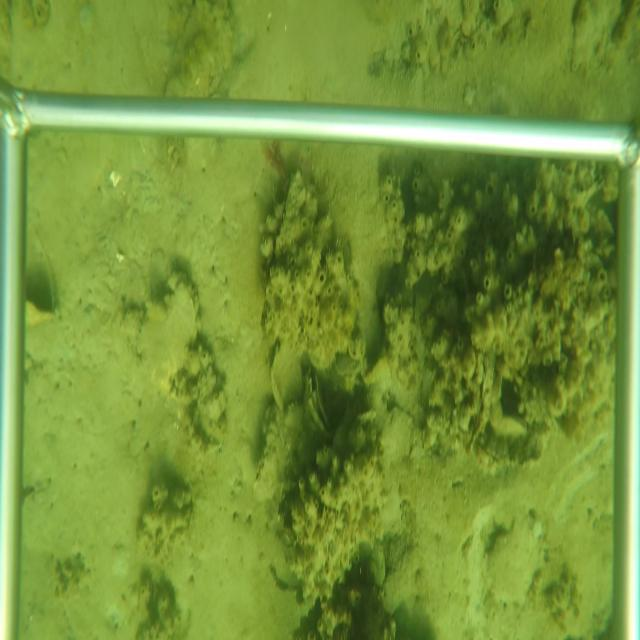Oyster-Indeterminate: (136, 281, 200, 391), (484, 509, 551, 605)
Oyster-Open: (305, 367, 335, 442)
